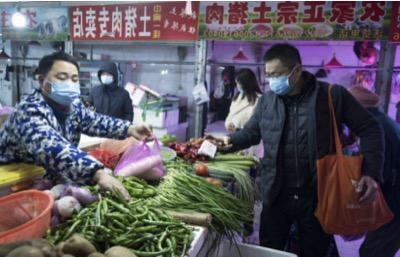mask_weared_incorrect: (235, 80, 243, 94)
with_mask: (44, 68, 81, 104), (264, 67, 293, 95), (100, 70, 114, 84)
